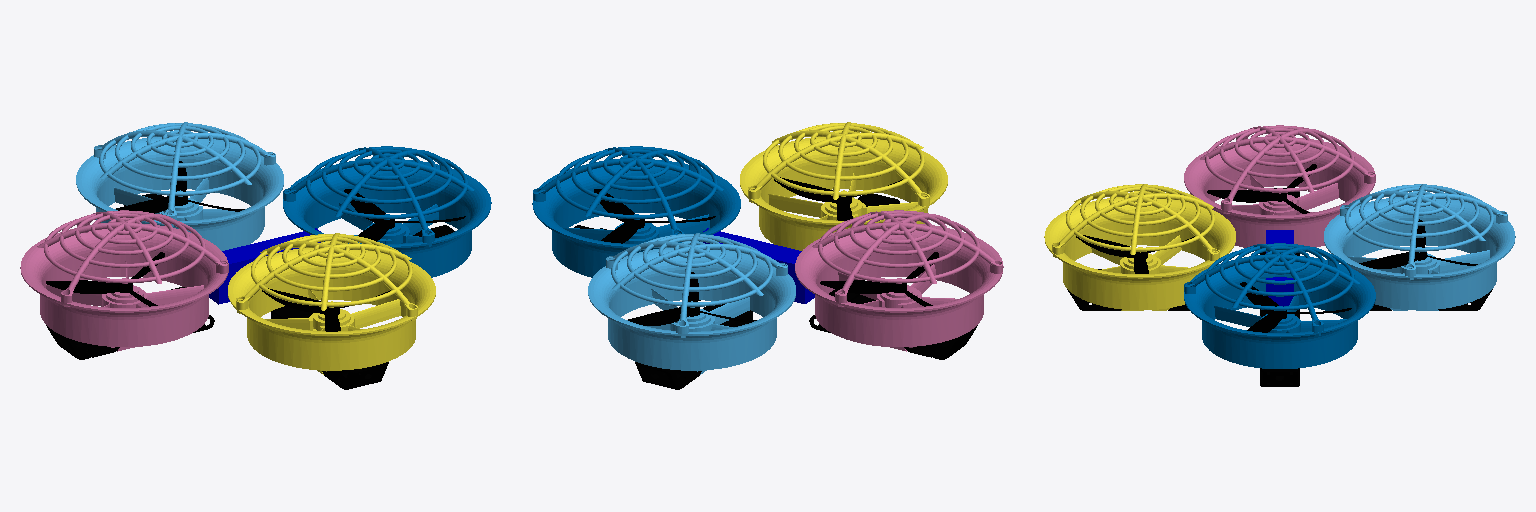
The robot description file, URDF, robot "hugmy":
<?xml version="1.0" ?>
<!-- =================================================================================== -->
<!-- |    This document was autogenerated by xacro from robot_ver2.urdf.xacro          | -->
<!-- |    EDITING THIS FILE BY HAND IS NOT RECOMMENDED                                 | -->
<!-- =================================================================================== -->
<robot name="hugmy">
  <!-- general attribute -->
  <baselink name="fc"/>
  <thrust_link name="thrust"/>
  <!-- dynamics -->
  <m_f_rate value="-0.0068"/>
  <!-- [N] -->
  <!-- dummy root link for KDL -->
  <link name="root">
    <inertial>
      <origin rpy="0 0 0" xyz="0 0 0"/>
      <mass value="0.00001"/>
      <inertia ixx="0.000001" ixy="0.0" ixz="0.0" iyy="0.000001" iyz="0.0" izz="0.000002"/>
    </inertial>
  </link>
  <joint name="root_joint" type="fixed">
    <parent link="root"/>
    <child link="main_body"/>
    <origin rpy="0 0 0" xyz="0 0 0"/>
    <axis xyz="0 0 1"/>
  </joint>
  <!-- main_body -->
  <link name="main_body">
    <inertial>
      <mass value="0.698"/>
      <origin rpy="0 0 0" xyz="0.00110883 0.00011825 0.00012320"/>
      <inertia ixx="0.00145773" ixy="-0.00000588" ixz="0.00002143" iyy="0.00150029" iyz="-0.00004262" izz="0.00061796"/>
    </inertial>
    <visual>
      <origin rpy="0 0 0" xyz="0 0 0"/>
      <geometry>
        <mesh filename="package://hugmy/urdf/mesh/Inflatable_asm.STL"/>
      </geometry>
    </visual>
    <collision>
      <origin rpy="0 0 0" xyz="0 0 0"/>
      <geometry>
        <box size="0.28 0.28 0.072"/>
      </geometry>
    </collision>
  </link>
  <!--link-->
  <link name="link_1_1">
    <inertial>
      <origin rpy="0 0 0" xyz="0.01174501 0.01750000 0.00608468"/>
      <mass value="0.00752930"/>
      <inertia ixx="0.00000411" ixy="0.00000155" ixz="0.00000051" iyy="0.00000214" iyz="0.00000080" izz="0.00000483"/>
    </inertial>
    <visual>
      <origin rpy="0 0 0" xyz="0 0 0"/>
      <geometry>
        <mesh filename="package://hugmy/urdf/mesh/cable_carrier_normal.dae"/>
      </geometry>
    </visual>
  </link>
  <link name="link_2_1">
    <inertial>
      <origin rpy="0 0 0" xyz="0.01174501 0.01750000 0.00608468"/>
      <mass value="0.00752930"/>
      <inertia ixx="0.00000411" ixy="0.00000155" ixz="0.00000051" iyy="0.00000214" iyz="0.00000080" izz="0.00000483"/>
    </inertial>
    <visual>
      <origin rpy="0 0 0" xyz="0 0 0"/>
      <geometry>
        <mesh filename="package://hugmy/urdf/mesh/cable_carrier_normal.dae"/>
      </geometry>
    </visual>
  </link>
  <link name="link_rotor_1">
    <inertial>
      <origin rpy="0 0 0" xyz="0.02005067 0.01755833 0.04034797"/>
      <mass value="0.11565729"/>
      <inertia ixx="0.00042229" ixy="0.00004075" ixz="0.00009327" iyy="0.00043336" iyz="0.00008185" izz="0.00034957"/>
    </inertial>
    <visual>
      <origin rpy="0 0 0" xyz="0 0 0"/>
      <geometry>
        <mesh filename="package://hugmy/urdf/mesh/long_cabble_carrier_and_moter_mount.STL"/>
      </geometry>
    </visual>
  </link>
  <link name="link_4_1">
    <inertial>
      <origin rpy="0 0 0" xyz="0.01174501 0.01750000 0.00608468"/>
      <mass value="0.00752930"/>
      <inertia ixx="0.00000411" ixy="0.00000155" ixz="0.00000051" iyy="0.00000214" iyz="0.00000080" izz="0.00000483"/>
    </inertial>
    <visual>
      <origin rpy="0 0 0" xyz="0 0 0"/>
      <geometry>
        <mesh filename="package://hugmy/urdf/mesh/cable_carrier_normal.dae"/>
      </geometry>
    </visual>
  </link>
  <link name="link_end_1">
    <inertial>
      <origin rpy="0 0 0" xyz="0.00910088 0.01750002 0.00845133"/>
      <mass value="0.00505969"/>
      <inertia ixx="0.00000287" ixy="0.00000081" ixz="0.00000044" iyy="0.00000126" iyz="0.00000075" izz="0.00000283"/>
    </inertial>
    <visual>
      <origin rpy="0 0 0" xyz="0 0 0"/>
      <geometry>
        <mesh filename="package://hugmy/urdf/mesh/cable_carrier_end.dae"/>
      </geometry>
    </visual>
  </link>
  <!-- joint -->
  <joint name="joint_1_1" type="revolute">
    <parent link="main_body"/>
    <child link="link_1_1"/>
    <origin rpy="0 0 6.283185307179586" xyz="0.05391 -0.0175 -0.039"/>
    <axis xyz="0 1 0"/>
    <limit effort="10" lower="0" upper="0.8727" velocity="1.0"/>
  </joint>
  <joint name="joint_2_1" type="revolute">
    <parent link="link_1_1"/>
    <child link="link_2_1"/>
    <origin rpy="0 0 0" xyz="0.023 0.00 0.00"/>
    <axis xyz="0 1 0"/>
    <limit effort="10" lower="0" upper="1.047" velocity="1.0"/>
  </joint>
  <joint name="joint_3_1" type="revolute">
    <parent link="link_2_1"/>
    <child link="link_rotor_1"/>
    <origin rpy="0 0 0" xyz="0.023 0.00 0.00"/>
    <axis xyz="0 1 0"/>
    <limit effort="10" lower="0" upper="1.047" velocity="1.0"/>
  </joint>
  <joint name="joint_4_1" type="revolute">
    <parent link="link_rotor_1"/>
    <child link="link_4_1"/>
    <origin rpy="0 0 0" xyz="0.04 0.00 0.00"/>
    <axis xyz="0 1 0"/>
    <limit effort="10" lower="0" upper="1.047" velocity="1.0"/>
  </joint>
  <joint name="joint_5_1" type="revolute">
    <parent link="link_4_1"/>
    <child link="link_end_1"/>
    <origin rpy="0 0 0" xyz="0.023 0.00 0.00"/>
    <axis xyz="0 1 0"/>
    <limit effort="10" lower="0" upper="1.047" velocity="1.0"/>
  </joint>
  <!--link-->
  <link name="link_1_2">
    <inertial>
      <origin rpy="0 0 0" xyz="0.01174501 0.01750000 0.00608468"/>
      <mass value="0.00752930"/>
      <inertia ixx="0.00000411" ixy="0.00000155" ixz="0.00000051" iyy="0.00000214" iyz="0.00000080" izz="0.00000483"/>
    </inertial>
    <visual>
      <origin rpy="0 0 0" xyz="0 0 0"/>
      <geometry>
        <mesh filename="package://hugmy/urdf/mesh/cable_carrier_normal.dae"/>
      </geometry>
    </visual>
  </link>
  <link name="link_2_2">
    <inertial>
      <origin rpy="0 0 0" xyz="0.01174501 0.01750000 0.00608468"/>
      <mass value="0.00752930"/>
      <inertia ixx="0.00000411" ixy="0.00000155" ixz="0.00000051" iyy="0.00000214" iyz="0.00000080" izz="0.00000483"/>
    </inertial>
    <visual>
      <origin rpy="0 0 0" xyz="0 0 0"/>
      <geometry>
        <mesh filename="package://hugmy/urdf/mesh/cable_carrier_normal.dae"/>
      </geometry>
    </visual>
  </link>
  <link name="link_rotor_2">
    <inertial>
      <origin rpy="0 0 0" xyz="0.02005067 0.01755833 0.04034797"/>
      <mass value="0.11565729"/>
      <inertia ixx="0.00042229" ixy="0.00004075" ixz="0.00009327" iyy="0.00043336" iyz="0.00008185" izz="0.00034957"/>
    </inertial>
    <visual>
      <origin rpy="0 0 0" xyz="0 0 0"/>
      <geometry>
        <mesh filename="package://hugmy/urdf/mesh/long_cabble_carrier_and_moter_mount.STL"/>
      </geometry>
    </visual>
  </link>
  <link name="link_4_2">
    <inertial>
      <origin rpy="0 0 0" xyz="0.01174501 0.01750000 0.00608468"/>
      <mass value="0.00752930"/>
      <inertia ixx="0.00000411" ixy="0.00000155" ixz="0.00000051" iyy="0.00000214" iyz="0.00000080" izz="0.00000483"/>
    </inertial>
    <visual>
      <origin rpy="0 0 0" xyz="0 0 0"/>
      <geometry>
        <mesh filename="package://hugmy/urdf/mesh/cable_carrier_normal.dae"/>
      </geometry>
    </visual>
  </link>
  <link name="link_end_2">
    <inertial>
      <origin rpy="0 0 0" xyz="0.00910088 0.01750002 0.00845133"/>
      <mass value="0.00505969"/>
      <inertia ixx="0.00000287" ixy="0.00000081" ixz="0.00000044" iyy="0.00000126" iyz="0.00000075" izz="0.00000283"/>
    </inertial>
    <visual>
      <origin rpy="0 0 0" xyz="0 0 0"/>
      <geometry>
        <mesh filename="package://hugmy/urdf/mesh/cable_carrier_end.dae"/>
      </geometry>
    </visual>
  </link>
  <!-- joint -->
  <joint name="joint_1_2" type="revolute">
    <parent link="main_body"/>
    <child link="link_1_2"/>
    <origin rpy="0 0 7.853981633974483" xyz="0.0175 0.05391 -0.039"/>
    <axis xyz="0 1 0"/>
    <limit effort="10" lower="0" upper="0.8727" velocity="1.0"/>
  </joint>
  <joint name="joint_2_2" type="revolute">
    <parent link="link_1_2"/>
    <child link="link_2_2"/>
    <origin rpy="0 0 0" xyz="0.023 0.00 0.00"/>
    <axis xyz="0 1 0"/>
    <limit effort="10" lower="0" upper="1.047" velocity="1.0"/>
  </joint>
  <joint name="joint_3_2" type="revolute">
    <parent link="link_2_2"/>
    <child link="link_rotor_2"/>
    <origin rpy="0 0 0" xyz="0.023 0.00 0.00"/>
    <axis xyz="0 1 0"/>
    <limit effort="10" lower="0" upper="1.047" velocity="1.0"/>
  </joint>
  <joint name="joint_4_2" type="revolute">
    <parent link="link_rotor_2"/>
    <child link="link_4_2"/>
    <origin rpy="0 0 0" xyz="0.04 0.00 0.00"/>
    <axis xyz="0 1 0"/>
    <limit effort="10" lower="0" upper="1.047" velocity="1.0"/>
  </joint>
  <joint name="joint_5_2" type="revolute">
    <parent link="link_4_2"/>
    <child link="link_end_2"/>
    <origin rpy="0 0 0" xyz="0.023 0.00 0.00"/>
    <axis xyz="0 1 0"/>
    <limit effort="10" lower="0" upper="1.047" velocity="1.0"/>
  </joint>
  <!--link-->
  <link name="link_1_3">
    <inertial>
      <origin rpy="0 0 0" xyz="0.01174501 0.01750000 0.00608468"/>
      <mass value="0.00752930"/>
      <inertia ixx="0.00000411" ixy="0.00000155" ixz="0.00000051" iyy="0.00000214" iyz="0.00000080" izz="0.00000483"/>
    </inertial>
    <visual>
      <origin rpy="0 0 0" xyz="0 0 0"/>
      <geometry>
        <mesh filename="package://hugmy/urdf/mesh/cable_carrier_normal.dae"/>
      </geometry>
    </visual>
  </link>
  <link name="link_2_3">
    <inertial>
      <origin rpy="0 0 0" xyz="0.01174501 0.01750000 0.00608468"/>
      <mass value="0.00752930"/>
      <inertia ixx="0.00000411" ixy="0.00000155" ixz="0.00000051" iyy="0.00000214" iyz="0.00000080" izz="0.00000483"/>
    </inertial>
    <visual>
      <origin rpy="0 0 0" xyz="0 0 0"/>
      <geometry>
        <mesh filename="package://hugmy/urdf/mesh/cable_carrier_normal.dae"/>
      </geometry>
    </visual>
  </link>
  <link name="link_rotor_3">
    <inertial>
      <origin rpy="0 0 0" xyz="0.02005067 0.01755833 0.04034797"/>
      <mass value="0.11565729"/>
      <inertia ixx="0.00042229" ixy="0.00004075" ixz="0.00009327" iyy="0.00043336" iyz="0.00008185" izz="0.00034957"/>
    </inertial>
    <visual>
      <origin rpy="0 0 0" xyz="0 0 0"/>
      <geometry>
        <mesh filename="package://hugmy/urdf/mesh/long_cabble_carrier_and_moter_mount.STL"/>
      </geometry>
    </visual>
  </link>
  <link name="link_4_3">
    <inertial>
      <origin rpy="0 0 0" xyz="0.01174501 0.01750000 0.00608468"/>
      <mass value="0.00752930"/>
      <inertia ixx="0.00000411" ixy="0.00000155" ixz="0.00000051" iyy="0.00000214" iyz="0.00000080" izz="0.00000483"/>
    </inertial>
    <visual>
      <origin rpy="0 0 0" xyz="0 0 0"/>
      <geometry>
        <mesh filename="package://hugmy/urdf/mesh/cable_carrier_normal.dae"/>
      </geometry>
    </visual>
  </link>
  <link name="link_end_3">
    <inertial>
      <origin rpy="0 0 0" xyz="0.00910088 0.01750002 0.00845133"/>
      <mass value="0.00505969"/>
      <inertia ixx="0.00000287" ixy="0.00000081" ixz="0.00000044" iyy="0.00000126" iyz="0.00000075" izz="0.00000283"/>
    </inertial>
    <visual>
      <origin rpy="0 0 0" xyz="0 0 0"/>
      <geometry>
        <mesh filename="package://hugmy/urdf/mesh/cable_carrier_end.dae"/>
      </geometry>
    </visual>
  </link>
  <!-- joint -->
  <joint name="joint_1_3" type="revolute">
    <parent link="main_body"/>
    <child link="link_1_3"/>
    <origin rpy="0 0 9.42477796076938" xyz="-0.05391 0.0175 -0.039"/>
    <axis xyz="0 1 0"/>
    <limit effort="10" lower="0" upper="0.8727" velocity="1.0"/>
  </joint>
  <joint name="joint_2_3" type="revolute">
    <parent link="link_1_3"/>
    <child link="link_2_3"/>
    <origin rpy="0 0 0" xyz="0.023 0.00 0.00"/>
    <axis xyz="0 1 0"/>
    <limit effort="10" lower="0" upper="1.047" velocity="1.0"/>
  </joint>
  <joint name="joint_3_3" type="revolute">
    <parent link="link_2_3"/>
    <child link="link_rotor_3"/>
    <origin rpy="0 0 0" xyz="0.023 0.00 0.00"/>
    <axis xyz="0 1 0"/>
    <limit effort="10" lower="0" upper="1.047" velocity="1.0"/>
  </joint>
  <joint name="joint_4_3" type="revolute">
    <parent link="link_rotor_3"/>
    <child link="link_4_3"/>
    <origin rpy="0 0 0" xyz="0.04 0.00 0.00"/>
    <axis xyz="0 1 0"/>
    <limit effort="10" lower="0" upper="1.047" velocity="1.0"/>
  </joint>
  <joint name="joint_5_3" type="revolute">
    <parent link="link_4_3"/>
    <child link="link_end_3"/>
    <origin rpy="0 0 0" xyz="0.023 0.00 0.00"/>
    <axis xyz="0 1 0"/>
    <limit effort="10" lower="0" upper="1.047" velocity="1.0"/>
  </joint>
  <!--link-->
  <link name="link_1_4">
    <inertial>
      <origin rpy="0 0 0" xyz="0.01174501 0.01750000 0.00608468"/>
      <mass value="0.00752930"/>
      <inertia ixx="0.00000411" ixy="0.00000155" ixz="0.00000051" iyy="0.00000214" iyz="0.00000080" izz="0.00000483"/>
    </inertial>
    <visual>
      <origin rpy="0 0 0" xyz="0 0 0"/>
      <geometry>
        <mesh filename="package://hugmy/urdf/mesh/cable_carrier_normal.dae"/>
      </geometry>
    </visual>
  </link>
  <link name="link_2_4">
    <inertial>
      <origin rpy="0 0 0" xyz="0.01174501 0.01750000 0.00608468"/>
      <mass value="0.00752930"/>
      <inertia ixx="0.00000411" ixy="0.00000155" ixz="0.00000051" iyy="0.00000214" iyz="0.00000080" izz="0.00000483"/>
    </inertial>
    <visual>
      <origin rpy="0 0 0" xyz="0 0 0"/>
      <geometry>
        <mesh filename="package://hugmy/urdf/mesh/cable_carrier_normal.dae"/>
      </geometry>
    </visual>
  </link>
  <link name="link_rotor_4">
    <inertial>
      <origin rpy="0 0 0" xyz="0.02005067 0.01755833 0.04034797"/>
      <mass value="0.11565729"/>
      <inertia ixx="0.00042229" ixy="0.00004075" ixz="0.00009327" iyy="0.00043336" iyz="0.00008185" izz="0.00034957"/>
    </inertial>
    <visual>
      <origin rpy="0 0 0" xyz="0 0 0"/>
      <geometry>
        <mesh filename="package://hugmy/urdf/mesh/long_cabble_carrier_and_moter_mount.STL"/>
      </geometry>
    </visual>
  </link>
  <link name="link_4_4">
    <inertial>
      <origin rpy="0 0 0" xyz="0.01174501 0.01750000 0.00608468"/>
      <mass value="0.00752930"/>
      <inertia ixx="0.00000411" ixy="0.00000155" ixz="0.00000051" iyy="0.00000214" iyz="0.00000080" izz="0.00000483"/>
    </inertial>
    <visual>
      <origin rpy="0 0 0" xyz="0 0 0"/>
      <geometry>
        <mesh filename="package://hugmy/urdf/mesh/cable_carrier_normal.dae"/>
      </geometry>
    </visual>
  </link>
  <link name="link_end_4">
    <inertial>
      <origin rpy="0 0 0" xyz="0.00910088 0.01750002 0.00845133"/>
      <mass value="0.00505969"/>
      <inertia ixx="0.00000287" ixy="0.00000081" ixz="0.00000044" iyy="0.00000126" iyz="0.00000075" izz="0.00000283"/>
    </inertial>
    <visual>
      <origin rpy="0 0 0" xyz="0 0 0"/>
      <geometry>
        <mesh filename="package://hugmy/urdf/mesh/cable_carrier_end.dae"/>
      </geometry>
    </visual>
  </link>
  <!-- joint -->
  <joint name="joint_1_4" type="revolute">
    <parent link="main_body"/>
    <child link="link_1_4"/>
    <origin rpy="0 0 10.995574287564276" xyz="-0.0175 -0.05391 -0.039"/>
    <axis xyz="0 1 0"/>
    <limit effort="10" lower="0" upper="0.8727" velocity="1.0"/>
  </joint>
  <joint name="joint_2_4" type="revolute">
    <parent link="link_1_4"/>
    <child link="link_2_4"/>
    <origin rpy="0 0 0" xyz="0.023 0.00 0.00"/>
    <axis xyz="0 1 0"/>
    <limit effort="10" lower="0" upper="1.047" velocity="1.0"/>
  </joint>
  <joint name="joint_3_4" type="revolute">
    <parent link="link_2_4"/>
    <child link="link_rotor_4"/>
    <origin rpy="0 0 0" xyz="0.023 0.00 0.00"/>
    <axis xyz="0 1 0"/>
    <limit effort="10" lower="0" upper="1.047" velocity="1.0"/>
  </joint>
  <joint name="joint_4_4" type="revolute">
    <parent link="link_rotor_4"/>
    <child link="link_4_4"/>
    <origin rpy="0 0 0" xyz="0.04 0.00 0.00"/>
    <axis xyz="0 1 0"/>
    <limit effort="10" lower="0" upper="1.047" velocity="1.0"/>
  </joint>
  <joint name="joint_5_4" type="revolute">
    <parent link="link_4_4"/>
    <child link="link_end_4"/>
    <origin rpy="0 0 0" xyz="0.023 0.00 0.00"/>
    <axis xyz="0 1 0"/>
    <limit effort="10" lower="0" upper="1.047" velocity="1.0"/>
  </joint>
  <joint name="main_body2fc" type="fixed">
    <parent link="main_body"/>
    <child link="fc"/>
    <origin rpy="0 0 0" xyz="0 0 0"/>
  </joint>
  <link name="fc">
    <inertial>
      <mass value="00"/>
      <origin rpy="0 0 0" xyz="0 0 0"/>
      <inertia ixx="0.0" ixy="0.0" ixz="0.0" iyy="0.0" iyz="0.0" izz="0.0"/>
    </inertial>
  </link>
  <joint name="main_body2battery" type="fixed">
    <parent link="main_body"/>
    <child link="battery"/>
    <origin rpy="0 0 0" xyz="0.0105 0 -0.012"/>
  </joint>
  <link name="battery">
    <inertial>
      <mass value="0.188"/>
      <origin rpy="0 0 0" xyz="0 0 0"/>
      <inertia ixx="0.0" ixy="0.0" ixz="0.0" iyy="0.0002" iyz="0.0" izz="0.0002"/>
    </inertial>
    <visual>
      <origin rpy="0 0 0" xyz="0 0 0"/>
      <geometry>
        <mesh filename="package://hugmy/urdf/mesh/turnigy_3S_2200mAh.dae" scale="1 1 1"/>
      </geometry>
    </visual>
  </link>
  <joint name="rotor1" type="continuous">
    <limit effort="100.0" lower="0.0" upper="8.0" velocity="0.5"/>
    <parent link="link_rotor_1"/>
    <child link="thrust1"/>
    <origin rpy="0 0 0" xyz="0.020 0.0175 0.0369"/>
    <!-- <origin rpy="0 0 0" xyz="${x} ${y} ${z}"/> -->
    <axis xyz="0 0 -1"/>
  </joint>
  <link name="thrust1">
    <!-- visual & collisiont -->
    <inertial>
      <origin rpy="0 0 0" xyz="0 0 0"/>
      <mass value="0.0091"/>
      <inertia ixx="0.00000807" ixy="0.0" ixz="0.0" iyy="0.00000807" iyz="0.0" izz="0.00001612"/>
    </inertial>
    <visual>
      <origin rpy="0 0 0" xyz="0 0 0"/>
      <geometry>
        <mesh filename="package://hugmy/urdf/mesh/prop_5inch.dae"/>
      </geometry>
    </visual>
  </link>
  <gazebo reference="main_body">
    <dampingFactor>0.00</dampingFactor>
  </gazebo>
  <transmission name="rotor_tran1">
    <type>transmission_interface/SimpleTransmission</type>
    <joint name="rotor1">
      <!-- TODO: effort is torque, maybe position is enough -->
      <hardwareInterface>RotorInterface</hardwareInterface>
    </joint>
    <actuator name="rotor1">
      <!-- TODO: effort is torque, maybe position is enough -->
      <hardwareInterface>RotorInterface</hardwareInterface>
      <mechanicalReduction>1</mechanicalReduction>
    </actuator>
  </transmission>
  <joint name="rotor2" type="continuous">
    <limit effort="100.0" lower="0.0" upper="8.0" velocity="0.5"/>
    <parent link="link_rotor_2"/>
    <child link="thrust2"/>
    <origin rpy="0 0 0" xyz="0.020 0.0175 0.0369"/>
    <!-- <origin rpy="0 0 0" xyz="${x} ${y} ${z}"/> -->
    <axis xyz="0 0 1"/>
  </joint>
  <link name="thrust2">
    <!-- visual & collisiont -->
    <inertial>
      <origin rpy="0 0 0" xyz="0 0 0"/>
      <mass value="0.0091"/>
      <inertia ixx="0.00000807" ixy="0.0" ixz="0.0" iyy="0.00000807" iyz="0.0" izz="0.00001612"/>
    </inertial>
    <visual>
      <origin rpy="0 0 0" xyz="0 0 0"/>
      <geometry>
        <mesh filename="package://hugmy/urdf/mesh/prop_5inch.dae"/>
      </geometry>
    </visual>
  </link>
  <gazebo reference="main_body">
    <dampingFactor>0.00</dampingFactor>
  </gazebo>
  <transmission name="rotor_tran2">
    <type>transmission_interface/SimpleTransmission</type>
    <joint name="rotor2">
      <!-- TODO: effort is torque, maybe position is enough -->
      <hardwareInterface>RotorInterface</hardwareInterface>
    </joint>
    <actuator name="rotor2">
      <!-- TODO: effort is torque, maybe position is enough -->
      <hardwareInterface>RotorInterface</hardwareInterface>
      <mechanicalReduction>1</mechanicalReduction>
    </actuator>
  </transmission>
  <joint name="rotor3" type="continuous">
    <limit effort="100.0" lower="0.0" upper="8.0" velocity="0.5"/>
    <parent link="link_rotor_3"/>
    <child link="thrust3"/>
    <origin rpy="0 0 0" xyz="0.020 0.0175 0.0369"/>
    <!-- <origin rpy="0 0 0" xyz="${x} ${y} ${z}"/> -->
    <axis xyz="0 0 -1"/>
  </joint>
  <link name="thrust3">
    <!-- visual & collisiont -->
    <inertial>
      <origin rpy="0 0 0" xyz="0 0 0"/>
      <mass value="0.0091"/>
      <inertia ixx="0.00000807" ixy="0.0" ixz="0.0" iyy="0.00000807" iyz="0.0" izz="0.00001612"/>
    </inertial>
    <visual>
      <origin rpy="0 0 0" xyz="0 0 0"/>
      <geometry>
        <mesh filename="package://hugmy/urdf/mesh/prop_5inch.dae"/>
      </geometry>
    </visual>
  </link>
  <gazebo reference="main_body">
    <dampingFactor>0.00</dampingFactor>
  </gazebo>
  <transmission name="rotor_tran3">
    <type>transmission_interface/SimpleTransmission</type>
    <joint name="rotor3">
      <!-- TODO: effort is torque, maybe position is enough -->
      <hardwareInterface>RotorInterface</hardwareInterface>
    </joint>
    <actuator name="rotor3">
      <!-- TODO: effort is torque, maybe position is enough -->
      <hardwareInterface>RotorInterface</hardwareInterface>
      <mechanicalReduction>1</mechanicalReduction>
    </actuator>
  </transmission>
  <joint name="rotor4" type="continuous">
    <limit effort="100.0" lower="0.0" upper="8.0" velocity="0.5"/>
    <parent link="link_rotor_4"/>
    <child link="thrust4"/>
    <origin rpy="0 0 0" xyz="0.020 0.0175 0.0369"/>
    <!-- <origin rpy="0 0 0" xyz="${x} ${y} ${z}"/> -->
    <axis xyz="0 0 1"/>
  </joint>
  <link name="thrust4">
    <!-- visual & collisiont -->
    <inertial>
      <origin rpy="0 0 0" xyz="0 0 0"/>
      <mass value="0.0091"/>
      <inertia ixx="0.00000807" ixy="0.0" ixz="0.0" iyy="0.00000807" iyz="0.0" izz="0.00001612"/>
    </inertial>
    <visual>
      <origin rpy="0 0 0" xyz="0 0 0"/>
      <geometry>
        <mesh filename="package://hugmy/urdf/mesh/prop_5inch.dae"/>
      </geometry>
    </visual>
  </link>
  <gazebo reference="main_body">
    <dampingFactor>0.00</dampingFactor>
  </gazebo>
  <transmission name="rotor_tran4">
    <type>transmission_interface/SimpleTransmission</type>
    <joint name="rotor4">
      <!-- TODO: effort is torque, maybe position is enough -->
      <hardwareInterface>RotorInterface</hardwareInterface>
    </joint>
    <actuator name="rotor4">
      <!-- TODO: effort is torque, maybe position is enough -->
      <hardwareInterface>RotorInterface</hardwareInterface>
      <mechanicalReduction>1</mechanicalReduction>
    </actuator>
  </transmission>
  <!-- propellers -->
  <!-- <xacro:propeller_module id = "1" x = "${-rotor_x}" y = "${-rotor_y}" z = "${rotor_z}" direction = "1" /> -->
  <!-- <xacro:propeller_module id = "2" x = "${rotor_x}" y = "${-rotor_y}" z = "${rotor_z}" direction = "-1" /> -->
  <!-- <xacro:propeller_module id = "3" x = "${rotor_x}" y = "${rotor_y}" z = "${rotor_z}" direction = "1" /> -->
  <!-- <xacro:propeller_module id = "4" x = "${-rotor_x}" y = "${rotor_y}" z = "${rotor_z}"  direction = "-1" /> -->
</robot>

--- Facts derived from the render (not from the file) ---
Views: 3 orthographic renders of the robot side by side, from view 1: azimuth 30°, elevation 25°; view 2: azimuth 150°, elevation 25°; view 3: azimuth 270°, elevation 25°.
Robot: hugmy — 28 links, 27 joints (20 revolute, 4 continuous, 3 fixed); root link root; default pose: all joints at 0.
Links seen in each view (by area): view 1: link_rotor_4, link_rotor_3, link_rotor_2, link_rotor_1, battery, thrust3, thrust1, thrust2, thrust4, link_end_4, link_end_3; view 2: link_rotor_2, link_rotor_3, link_rotor_4, link_rotor_1, battery, thrust3, thrust1, thrust2, thrust4, link_end_2, link_end_3; view 3: link_rotor_1, link_rotor_2, link_rotor_4, link_rotor_3, thrust3, thrust1, thrust2, battery, thrust4, link_end_1.
Boxes of the visible links, x1,y1,x2,y2 form: link_rotor_4: [228, 233, 435, 374]; link_rotor_3: [20, 210, 228, 351]; link_rotor_2: [76, 122, 283, 250]; link_rotor_1: [283, 146, 491, 277]; battery: [209, 228, 320, 304]; thrust3: [46, 252, 164, 306]; thrust1: [344, 189, 465, 241]; thrust2: [116, 161, 244, 213]; thrust4: [262, 288, 390, 331]; link_end_4: [336, 362, 388, 389]; link_end_3: [46, 325, 94, 359]; link_rotor_2: [588, 233, 795, 374]; link_rotor_3: [795, 210, 1003, 351]; link_rotor_4: [740, 122, 947, 250]; link_rotor_1: [532, 146, 740, 277]; battery: [703, 228, 814, 303]; thrust3: [820, 252, 938, 306]; thrust1: [594, 189, 715, 243]; thrust2: [628, 272, 756, 325]; thrust4: [774, 177, 902, 220]; link_end_2: [635, 362, 687, 389]; link_end_3: [929, 325, 977, 359]; link_rotor_1: [1184, 243, 1375, 368]; link_rotor_2: [1324, 184, 1515, 310]; link_rotor_4: [1044, 184, 1235, 310]; link_rotor_3: [1184, 125, 1375, 247]; thrust3: [1207, 164, 1316, 213]; thrust1: [1240, 282, 1351, 332]; thrust2: [1359, 219, 1477, 268]; battery: [1266, 230, 1293, 306]; thrust4: [1076, 235, 1194, 273]; link_end_1: [1260, 368, 1299, 386].
Bounding box of the posed robot: 0.4048 × 0.4048 × 0.1017 m (x, y, z).
25 mesh visuals loaded from 6 distinct referenced files (1 binary STL, 4 Collada DAE); not drawn: 1 (reference not matched to a file when rendering).
